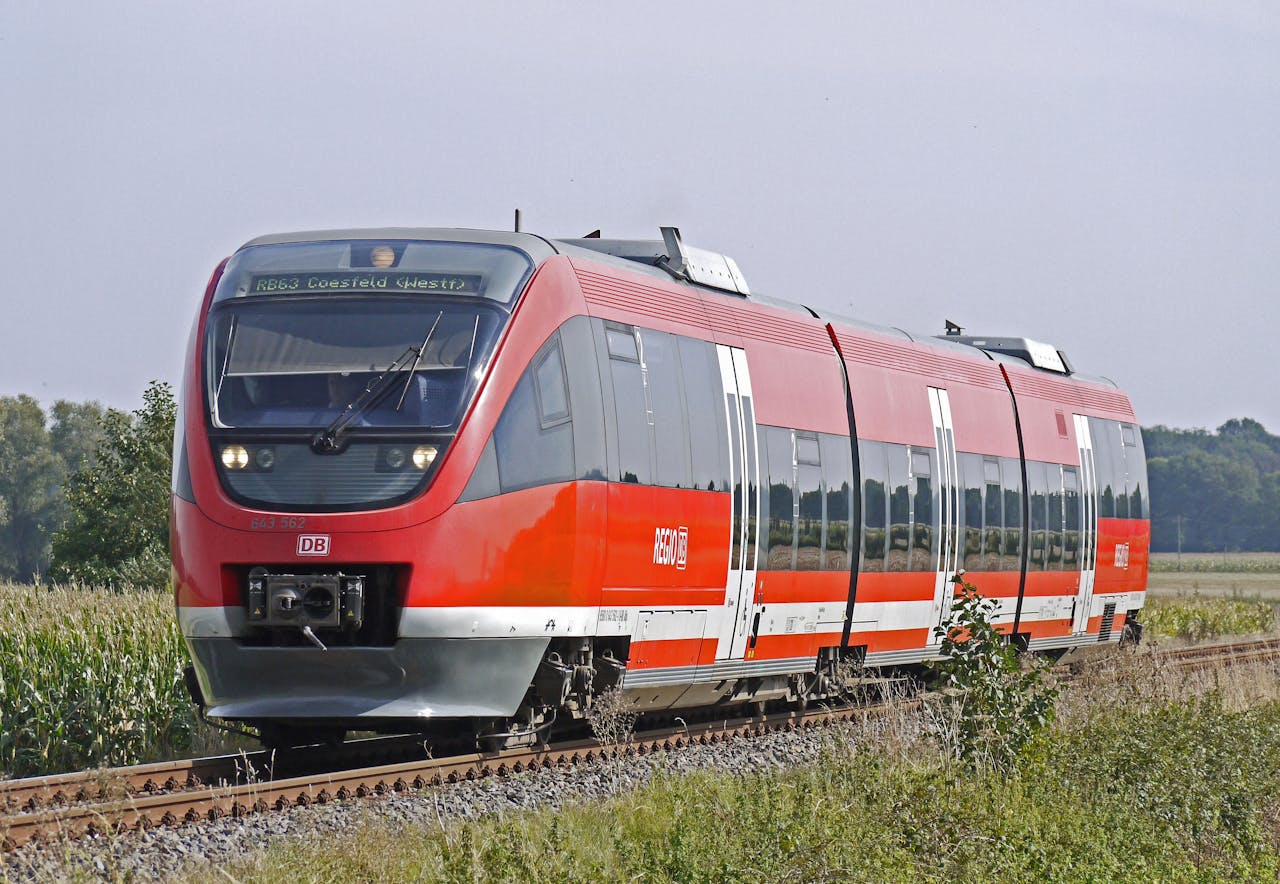train: (113, 141, 1161, 697)
